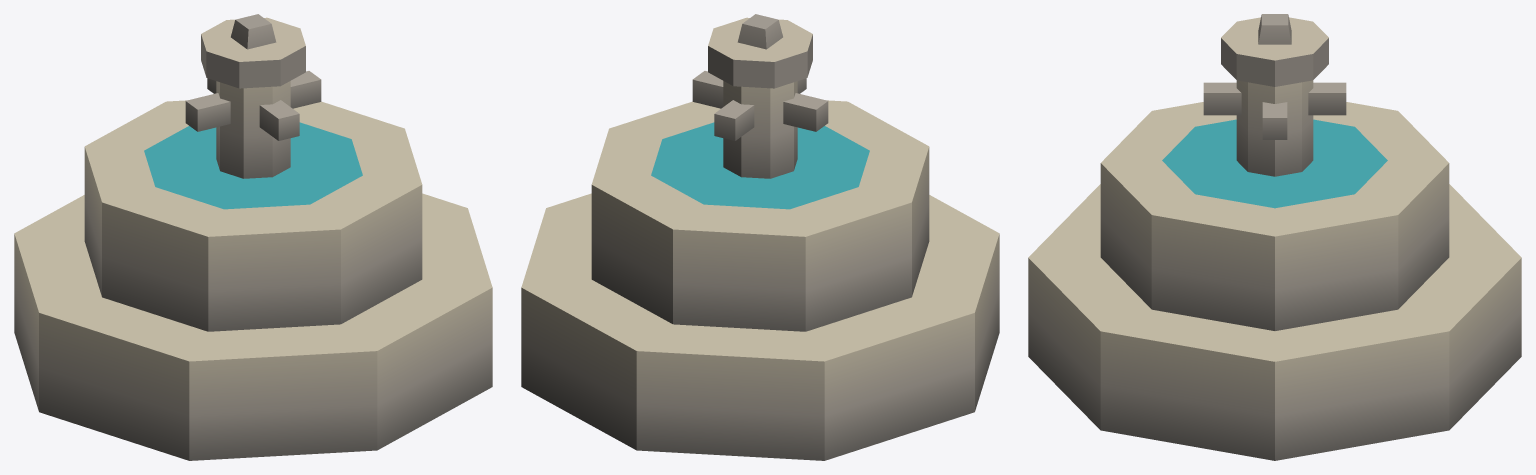
The model's file is Fountain.fbx.
The picture shows the model from 3 angles, left to right: view 1: azimuth 30°, elevation 25°; view 2: azimuth 150°, elevation 25°; view 3: azimuth 270°, elevation 25°; orthographic projection.
Visible parts, largest first — view 1: Fountain; view 2: Fountain; view 3: Fountain.
Boxes of the visible parts, box(x1,y1,x2,y2) form: Fountain: box(14, 14, 492, 460); Fountain: box(521, 14, 999, 460); Fountain: box(1028, 14, 1521, 460).
Bounding box in the file's own units: 360 × 271 × 360.
